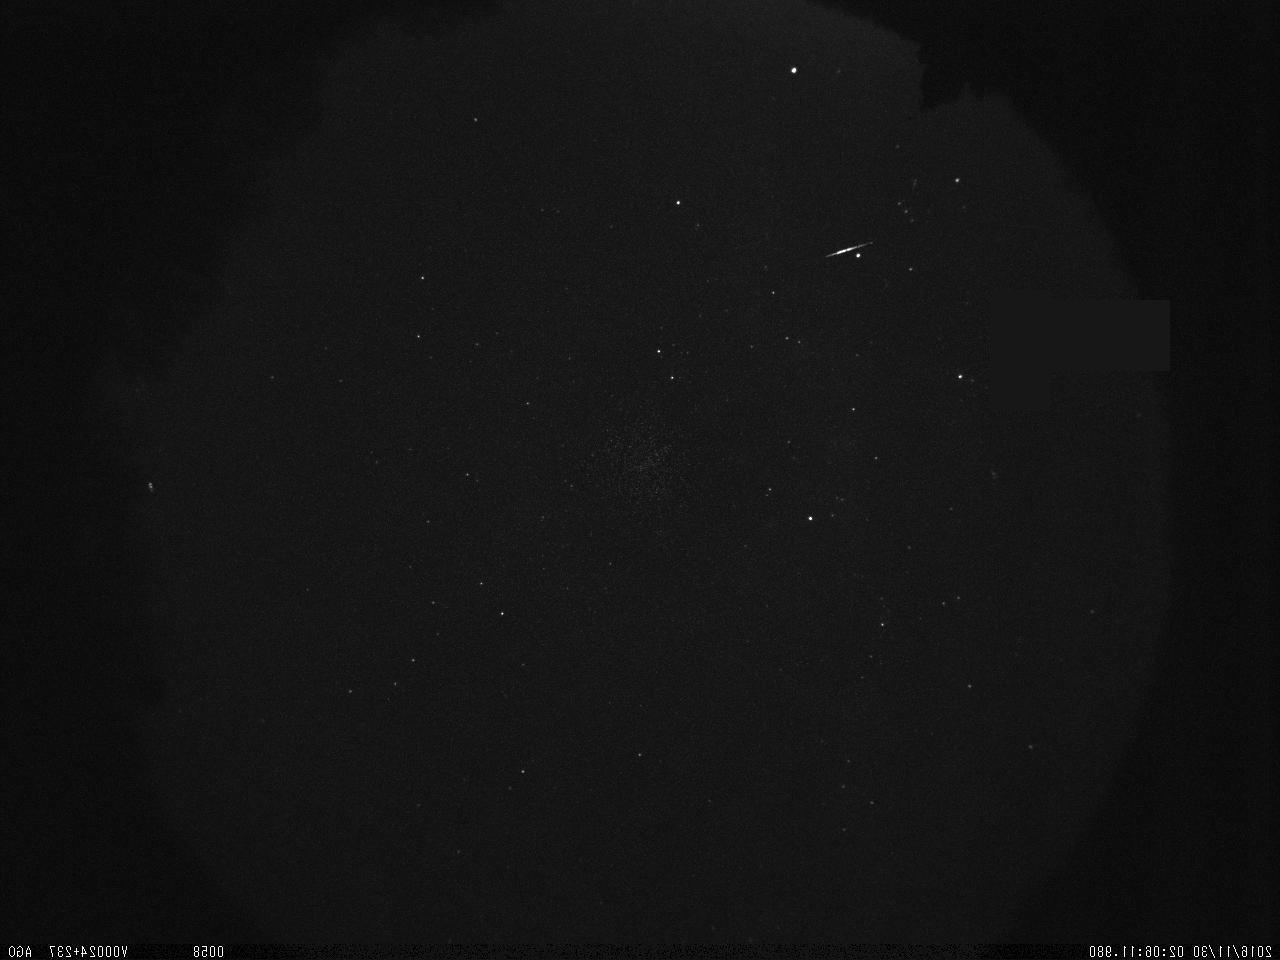meteor: (805, 229, 885, 273)
